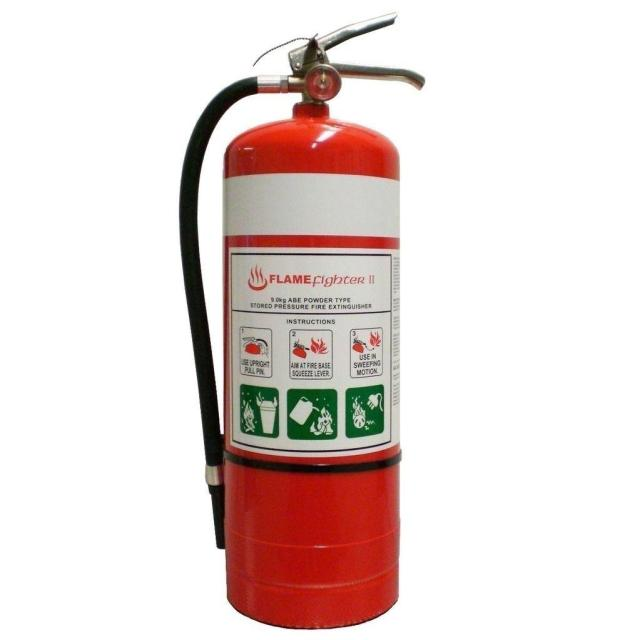fire_extinguisher: (170, 8, 435, 631)
